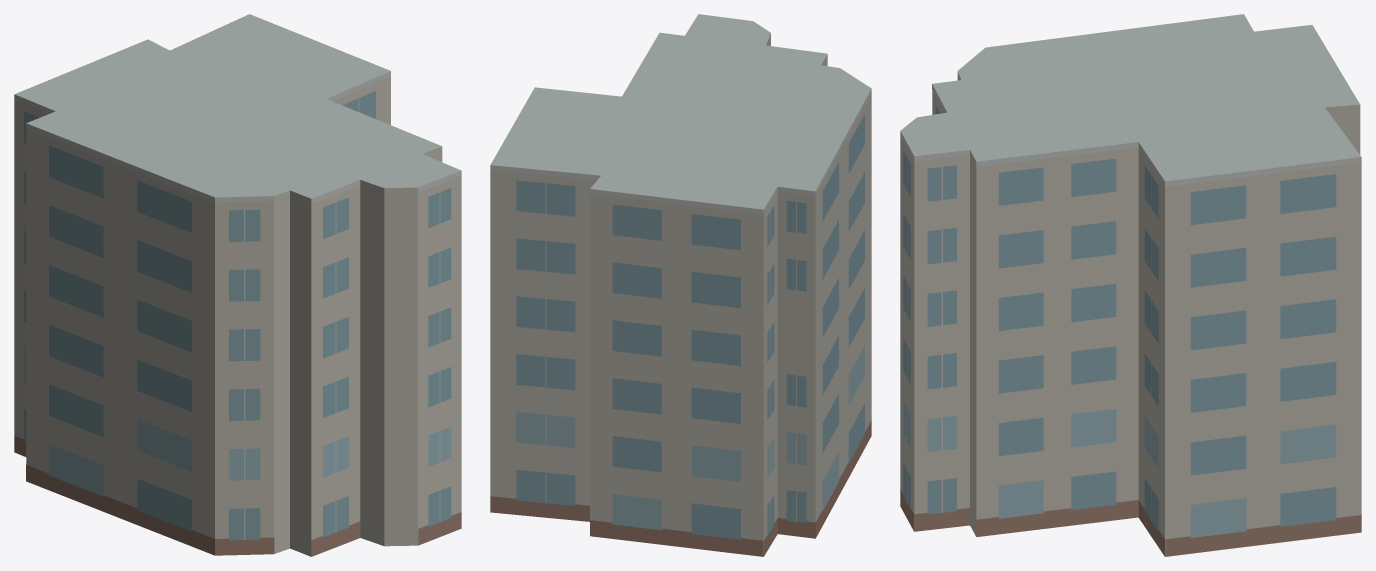
File: survey-upis-32565201.glb
3 views of the same model, side by side, from view 1: azimuth 30°, elevation 25°; view 2: azimuth 150°, elevation 25°; view 3: azimuth 270°, elevation 25° (orthographic). The views are drawn at different scales.
Parts seen in each view (by area): view 1: survey-upis-32565201.tmp; view 2: survey-upis-32565201.tmp; view 3: survey-upis-32565201.tmp.
Part boxes in pixels (x1,y1,x2,y2): survey-upis-32565201.tmp: (14, 14, 461, 556); survey-upis-32565201.tmp: (490, 14, 871, 556); survey-upis-32565201.tmp: (900, 14, 1361, 556).
Bounding box in the file's own units: 15.88 × 16.6 × 18.49.
